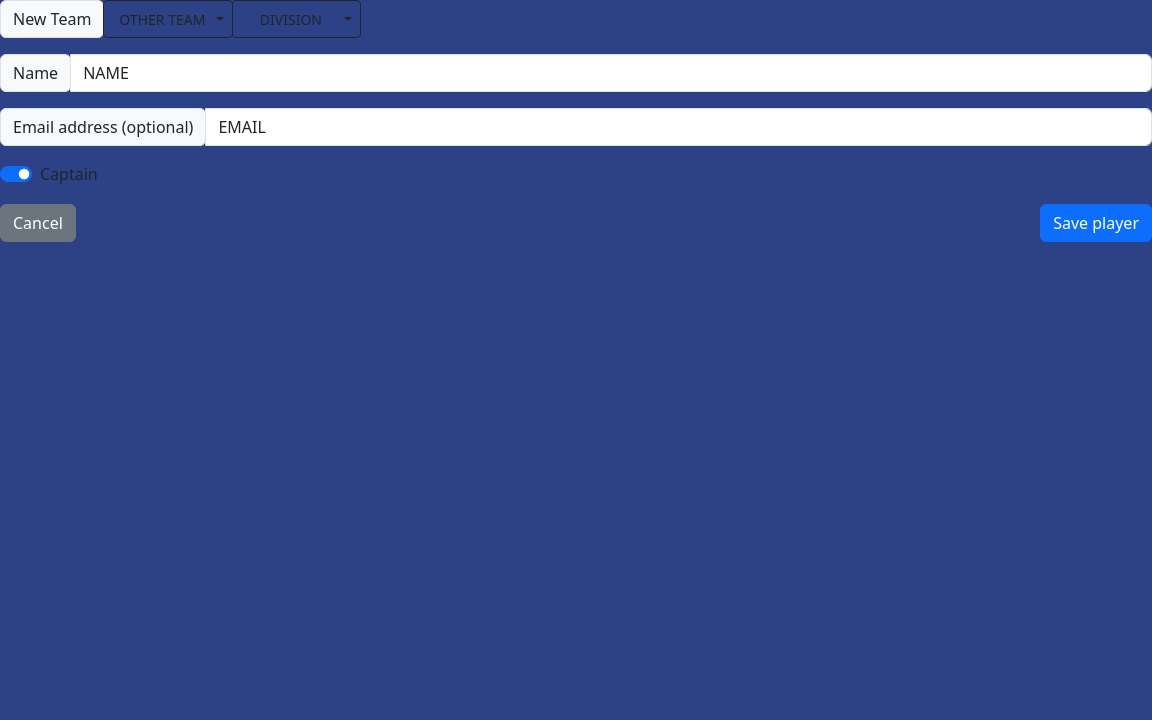
Scenario: EditPlayerDetails › interactivity › can close error dialog after save failure
The width and height of the screenshot is (1152, 720).
Click the button "Save player": (1096, 223) [1040, 204, 1151, 242]
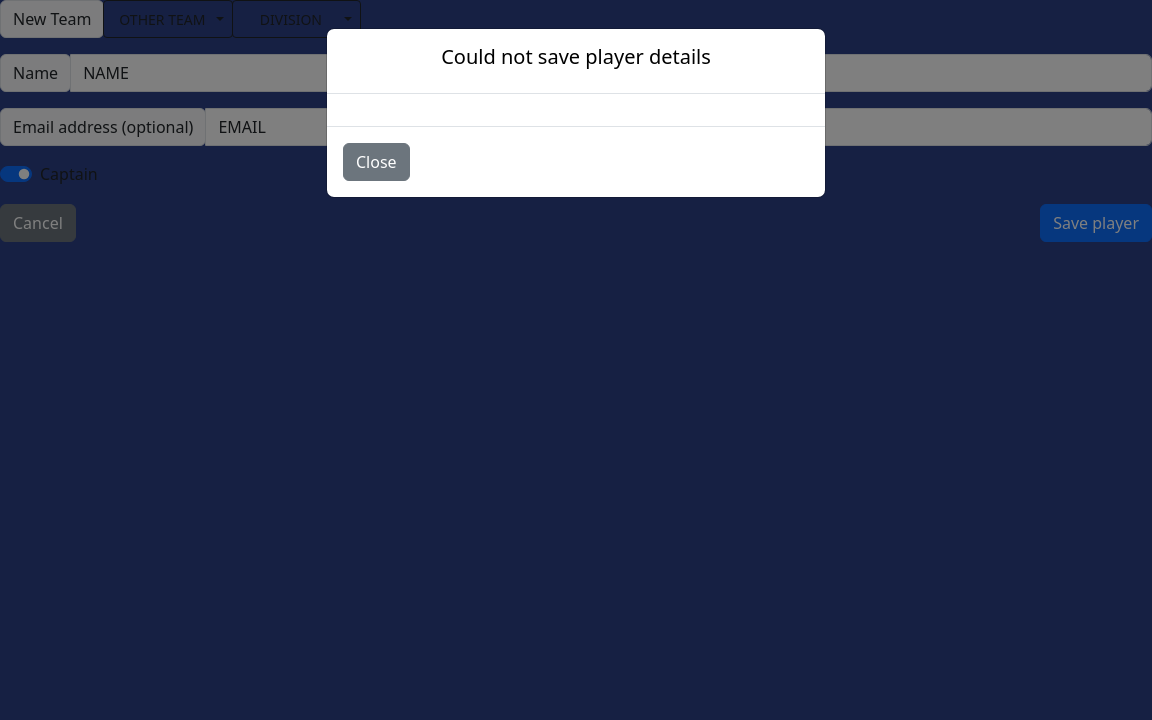
expect the text "Could not save player details" is shown: met, box [441, 45, 711, 69]
Click the button "Close": (376, 162) [343, 143, 410, 181]
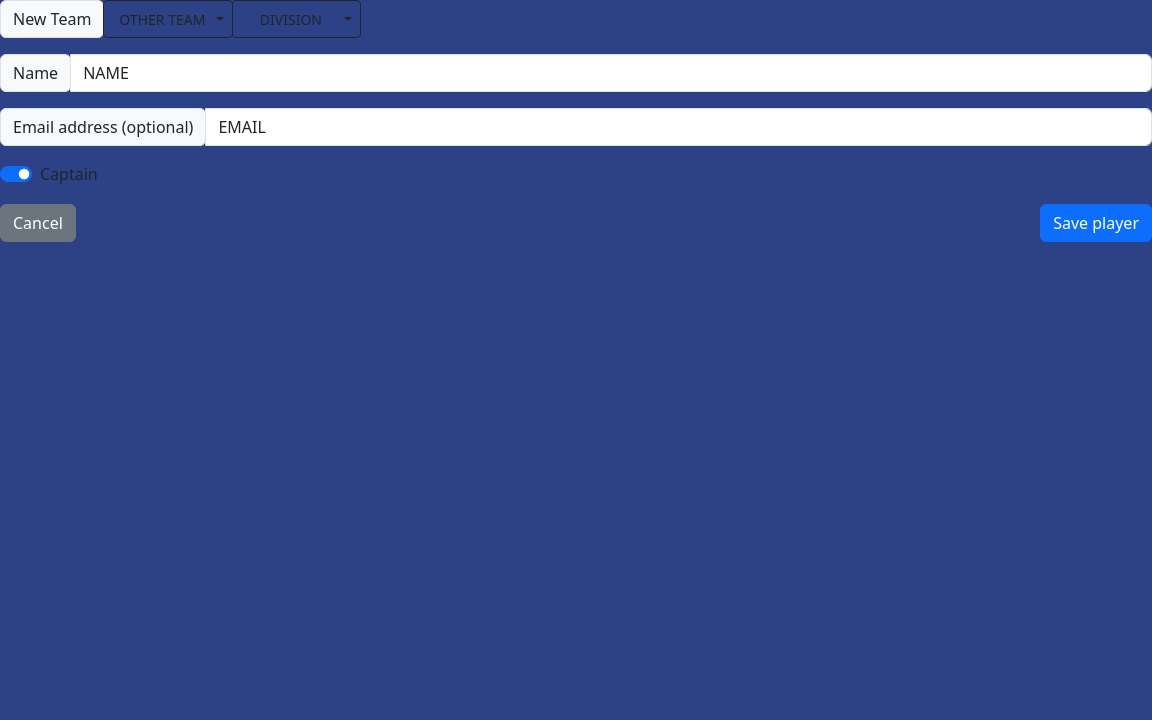
expect the text "Could not save player details" is gone: met
